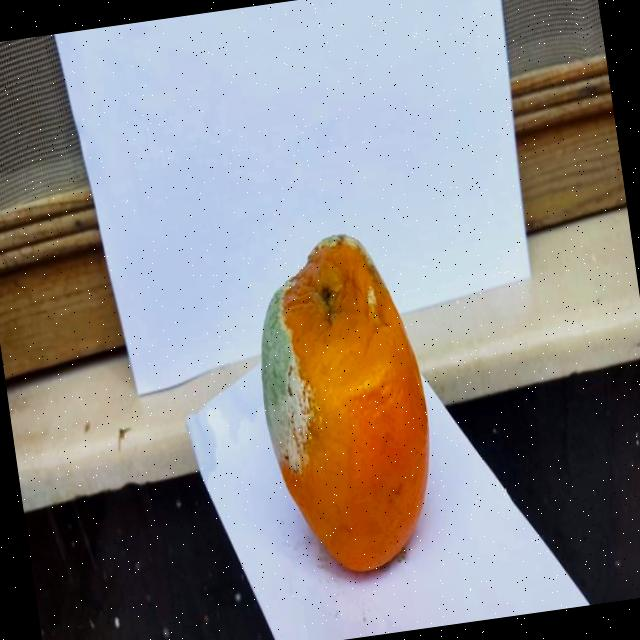rotten orange: (240, 224, 449, 584)
